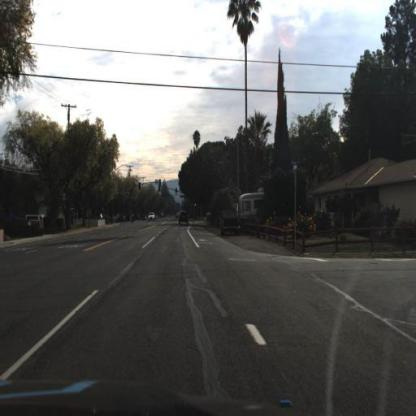car: (219, 209, 240, 235), (174, 207, 192, 230)
truck: (237, 190, 261, 216)
